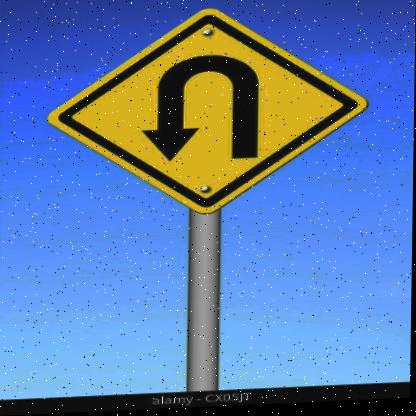U-turn: (60, 6, 370, 221)
